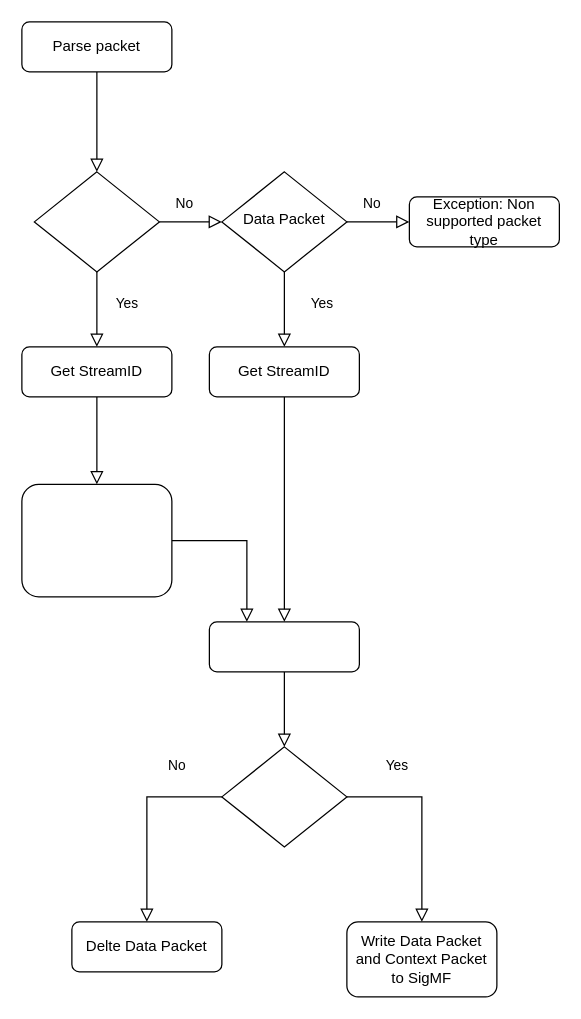
The diagram is 581 pixels wide and 1019 high, and some of its shapes have lost their labels. The centre of each missing label's shape, as x and y in pixels:
current Context packet is not None: pixel 284 796
Get current Context Packet: pixel 283 646
Is Context: pixel 96 221
save dict ("Key":value) "StreamID" : Context: pixel 96 540
